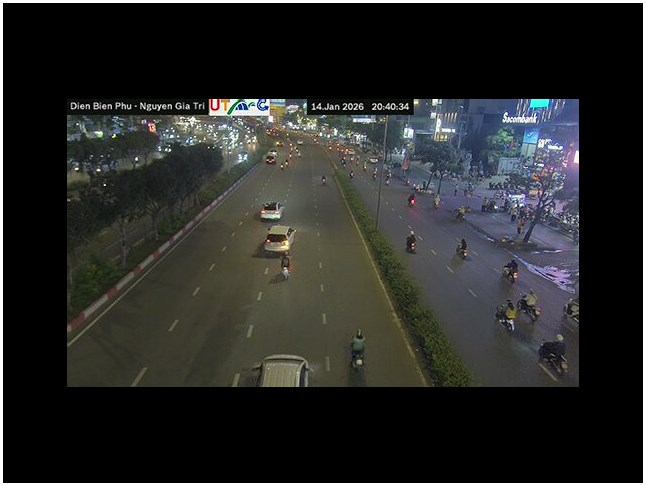car: (255, 351, 314, 386), (261, 226, 296, 257), (260, 201, 284, 222), (265, 150, 277, 164)
motorbike: (538, 334, 568, 377), (344, 328, 373, 372), (496, 296, 517, 333), (520, 291, 541, 320), (502, 258, 519, 281), (279, 253, 292, 278), (406, 230, 417, 250), (457, 237, 468, 256), (406, 191, 417, 206), (432, 193, 441, 208), (320, 175, 328, 185)
